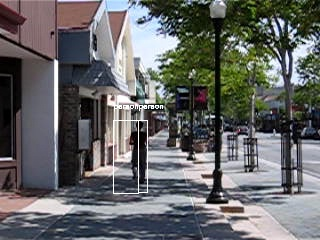person: (129, 120, 150, 186), (128, 120, 149, 186), (130, 120, 151, 186), (129, 119, 150, 185), (129, 121, 150, 187)
target_negative: (63, 1, 235, 206), (55, 7, 99, 157), (194, 118, 254, 203), (110, 205, 216, 234), (4, 4, 16, 194)
